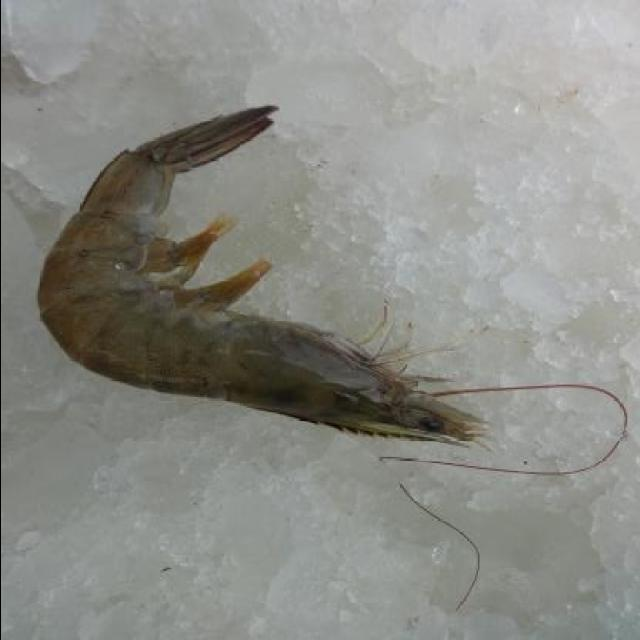shrimp: (30, 97, 490, 454)
